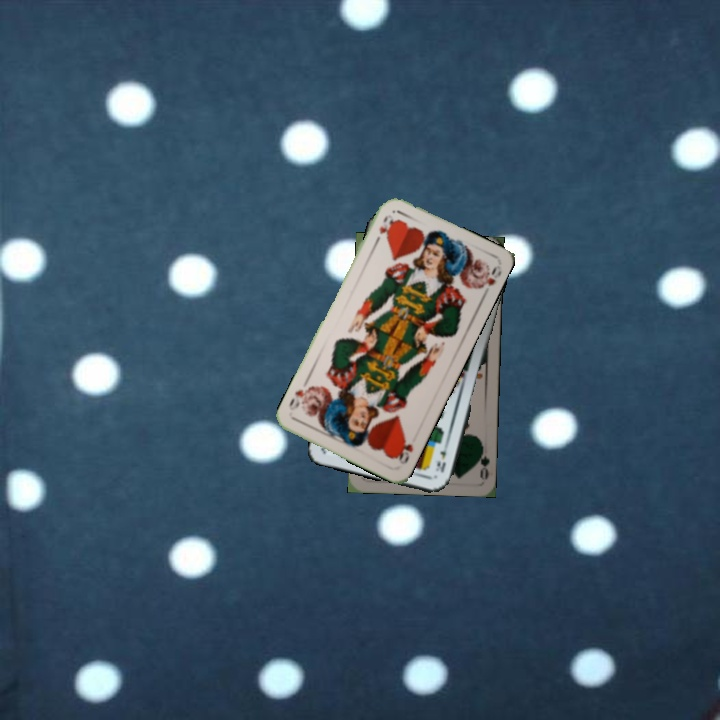EK: (431, 439, 451, 475)
GO: (472, 440, 492, 481)
HO: (370, 210, 395, 247), (392, 436, 416, 467)
